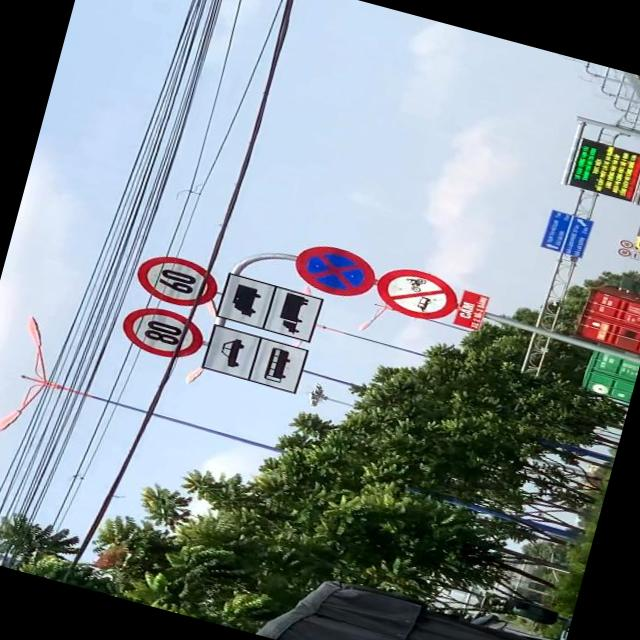P-104: (370, 260, 464, 326)
P-127: (132, 248, 224, 314), (115, 300, 208, 364)
P-130: (288, 238, 380, 302)
